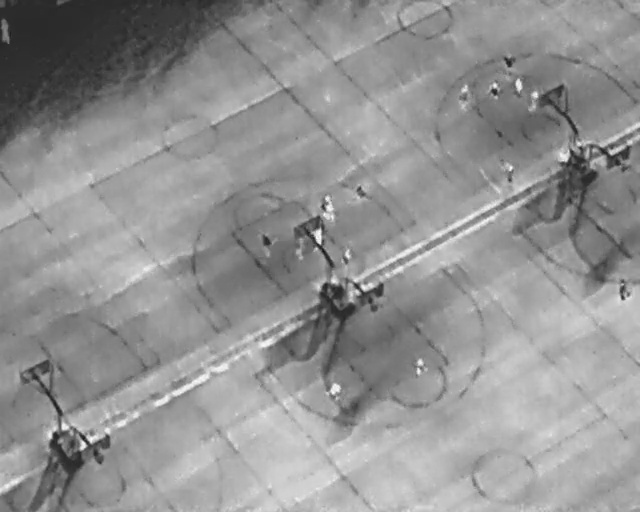Person: (323, 380, 345, 403), (260, 232, 279, 258), (320, 194, 336, 221), (411, 356, 429, 379), (524, 90, 541, 114), (616, 277, 632, 302), (488, 79, 502, 104), (0, 18, 11, 49), (459, 82, 471, 110), (340, 245, 354, 269), (504, 163, 517, 186), (502, 51, 516, 71), (513, 76, 524, 97)
